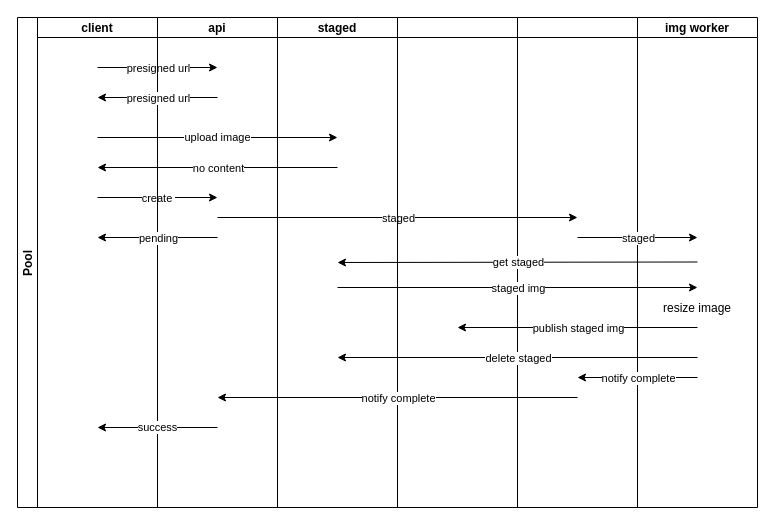
Image size: 775x525. Some labels were removed from this diagram. The shapes that lost their labels are listed below. From the top down, each one's centre as x and y in pixels, then its label:
the point at 457,262: published
the point at 577,262: message broker
